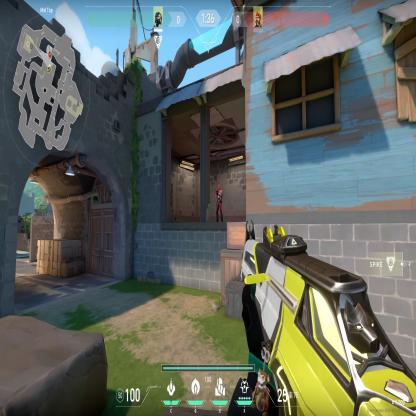enemy: (215, 182, 224, 224)
